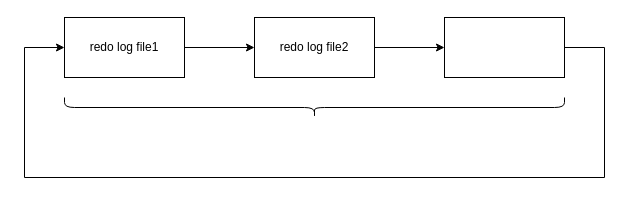
Image size: 630x203. Some labels were removed from this diagram. Each missing label, with the centre of its shape:
"redo log file n" goes at point 504,47.
"redo日志文件组" goes at point 314,107.
